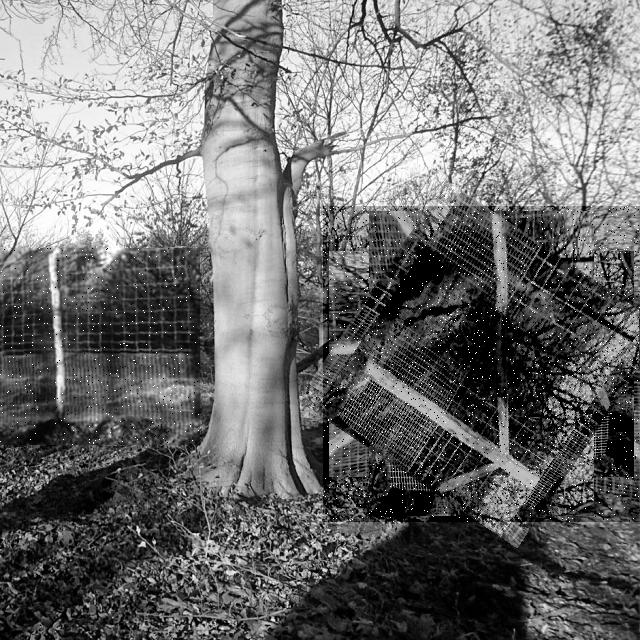fences: (323, 206, 640, 522), (0, 248, 200, 445)
